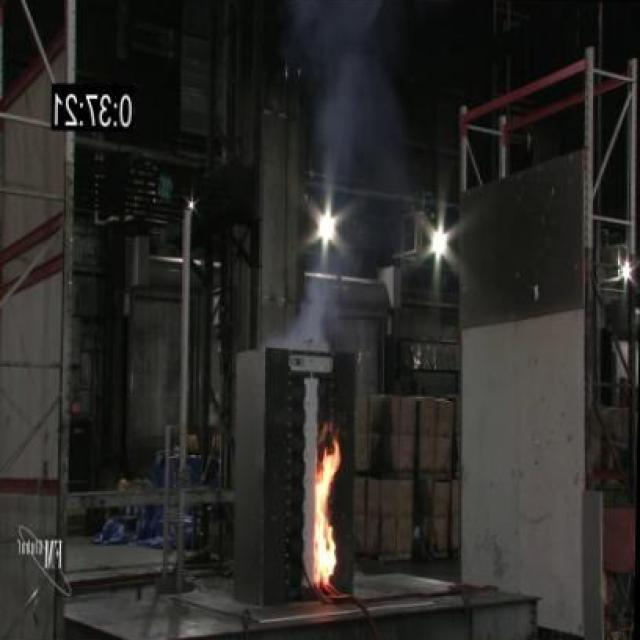fire: (264, 272, 334, 346)
smoke: (304, 418, 352, 597)
